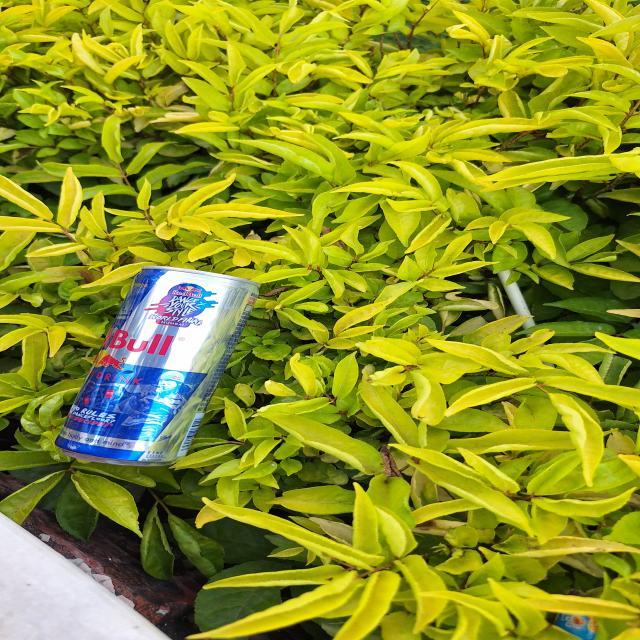Redbull DanceYourStyle: (59, 265, 251, 466)
